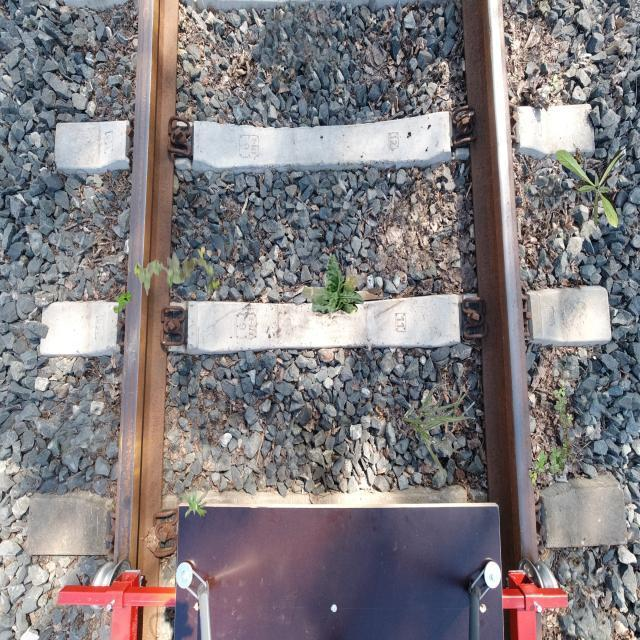Plant: (403, 383, 476, 476), (556, 148, 628, 229), (528, 380, 576, 483), (133, 246, 220, 298), (301, 253, 364, 315), (176, 484, 208, 518), (113, 289, 132, 314)
